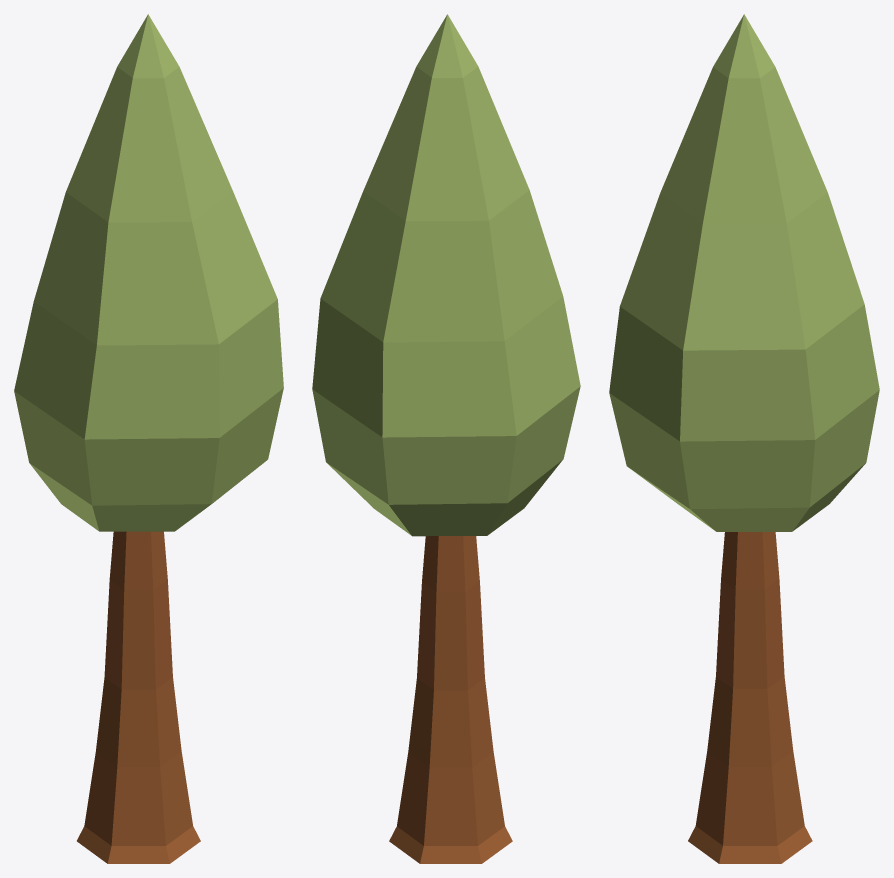
File: MeatballTree_Sapling.fbx
The picture shows the model from 3 angles, left to right: view 1: azimuth 30°, elevation 25°; view 2: azimuth 150°, elevation 25°; view 3: azimuth 270°, elevation 25°; orthographic projection.
Parts seen in each view (by area): view 1: Sphere; view 2: Sphere; view 3: Sphere.
Boxes of the visible parts, <box> form: Sphere: <box>14,14,283,863</box>; Sphere: <box>312,14,580,863</box>; Sphere: <box>609,14,879,863</box>.
Size of the model in its own units: 223 by 860 by 254.
